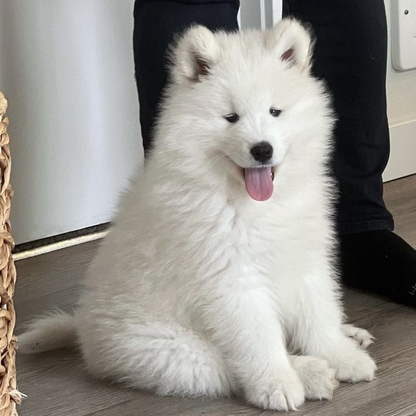samoyed: (11, 9, 385, 416)
